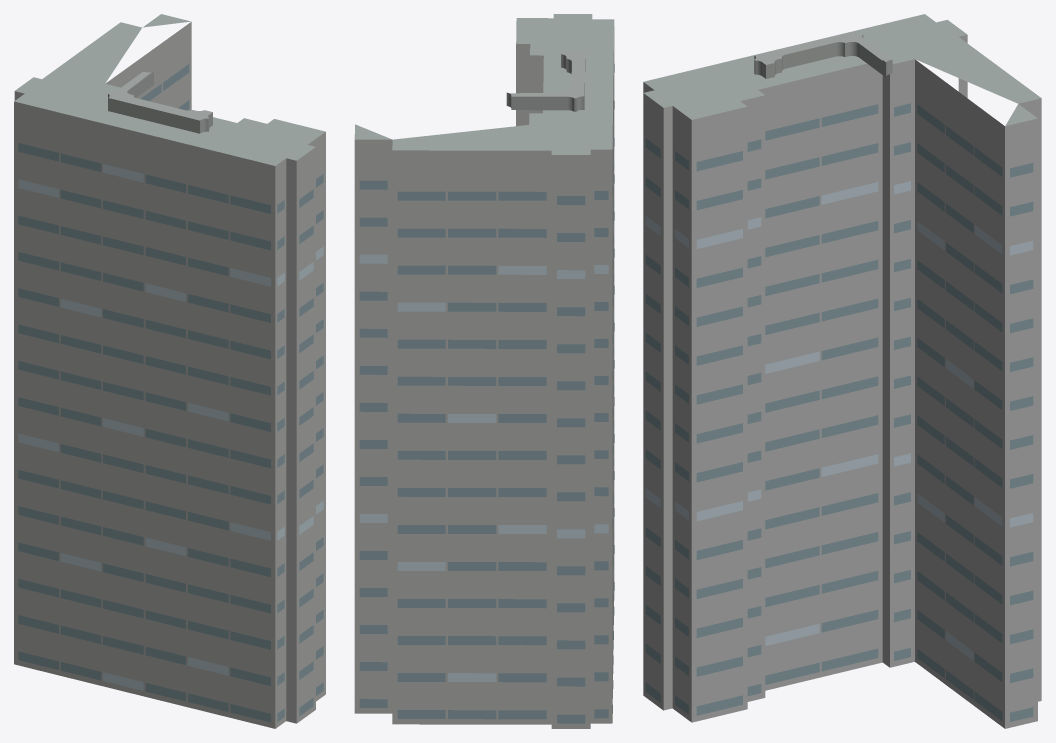
Rendered from fallback-acro-riverpark-105.glb.
3 renders of one model, left to right at view 1: azimuth 30°, elevation 25°; view 2: azimuth 150°, elevation 25°; view 3: azimuth 270°, elevation 25°, orthographic. The views are drawn at different scales.
Visible parts, largest first — view 1: fallback-acro-riverpark-105; view 2: fallback-acro-riverpark-105; view 3: fallback-acro-riverpark-105.
Part boxes in pixels (x1,y1,x2,y2): fallback-acro-riverpark-105: (14,14,325,728); fallback-acro-riverpark-105: (354,14,614,728); fallback-acro-riverpark-105: (643,14,1041,728).
Size of the model in its own units: 41 by 105 by 61.48.
